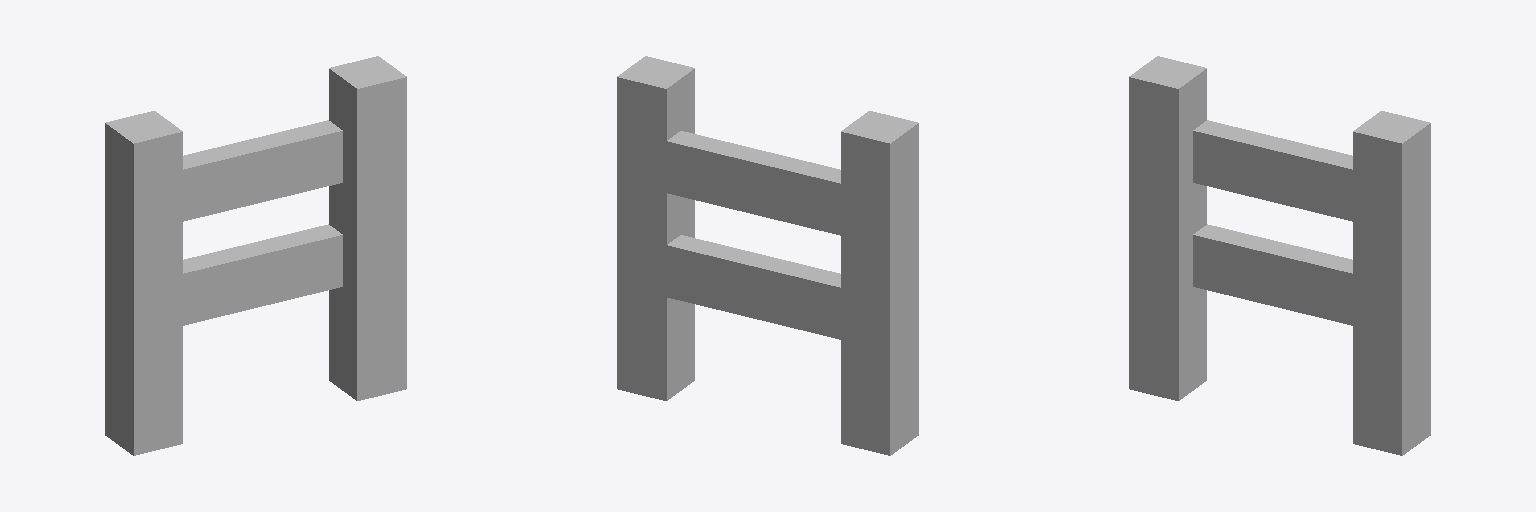
Rendered from fence.obj.
3 renders of one model, left to right at view 1: azimuth 30°, elevation 25°; view 2: azimuth 150°, elevation 25°; view 3: azimuth 330°, elevation 25°, orthographic.
Parts seen in each view (by area): view 1: object 1; view 2: object 1; view 3: object 1.
Part boxes in pixels (x1,y1,x2,y2): object 1: (105, 56, 406, 455); object 1: (617, 56, 918, 455); object 1: (1129, 56, 1430, 455).
Size of the model in its own units: 1.1 by 1.2 by 0.2.